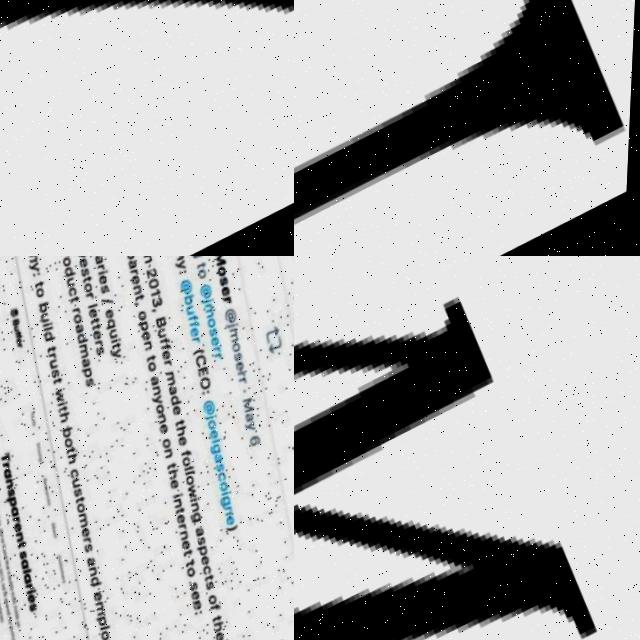0: (147, 277, 163, 294)
1: (150, 288, 163, 300)
2: (144, 267, 161, 284)
3: (150, 296, 167, 313)
6: (249, 437, 267, 455)
7: (0, 0, 294, 251)
M: (294, 256, 620, 640)
U: (294, 0, 640, 256)
